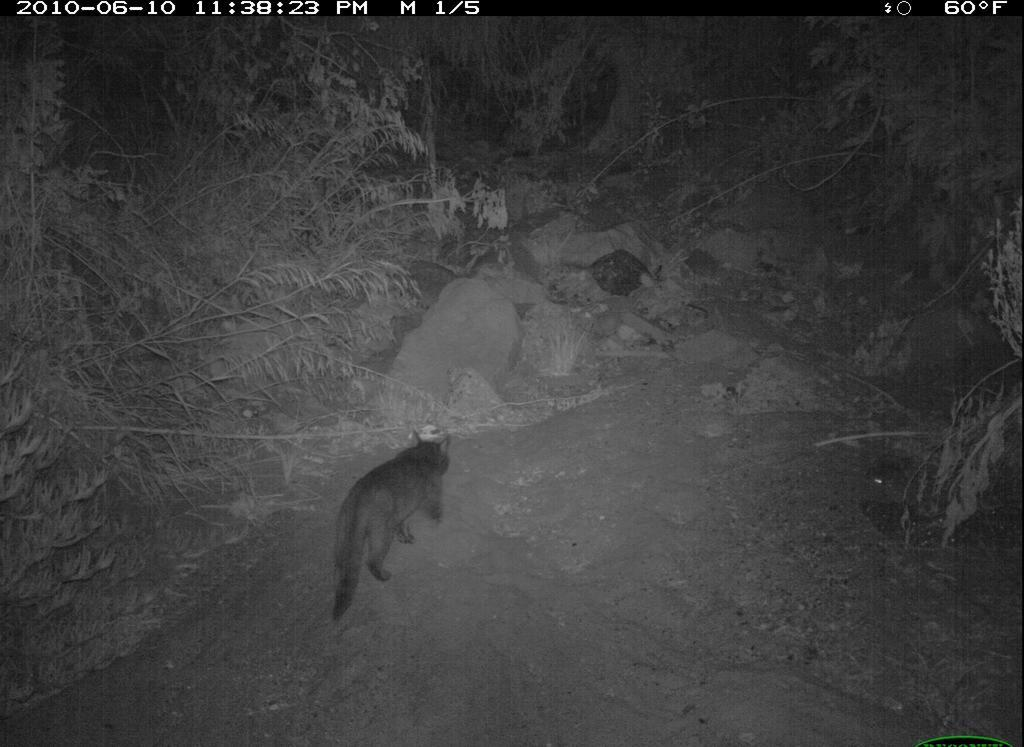cat: (305, 410, 473, 629)
